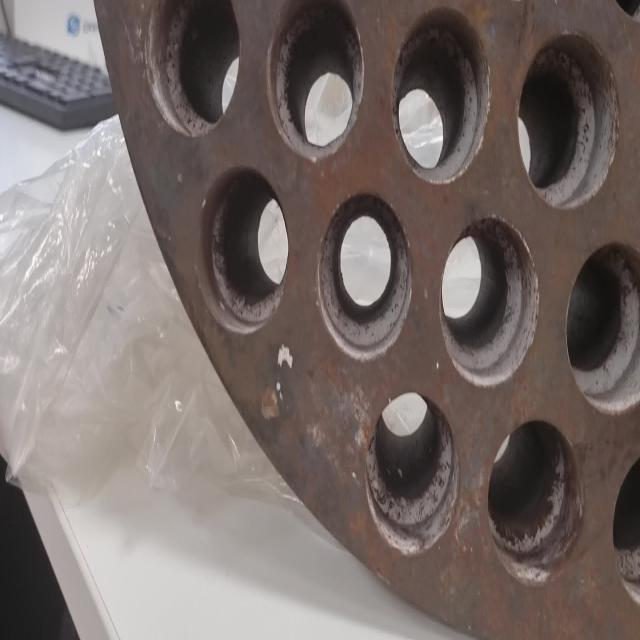Hole: (516, 28, 620, 210), (391, 5, 491, 185), (439, 214, 539, 388), (486, 417, 585, 586), (316, 190, 412, 362), (266, 0, 364, 162), (198, 166, 290, 334), (366, 391, 459, 555), (144, 0, 240, 137), (566, 240, 640, 416)
